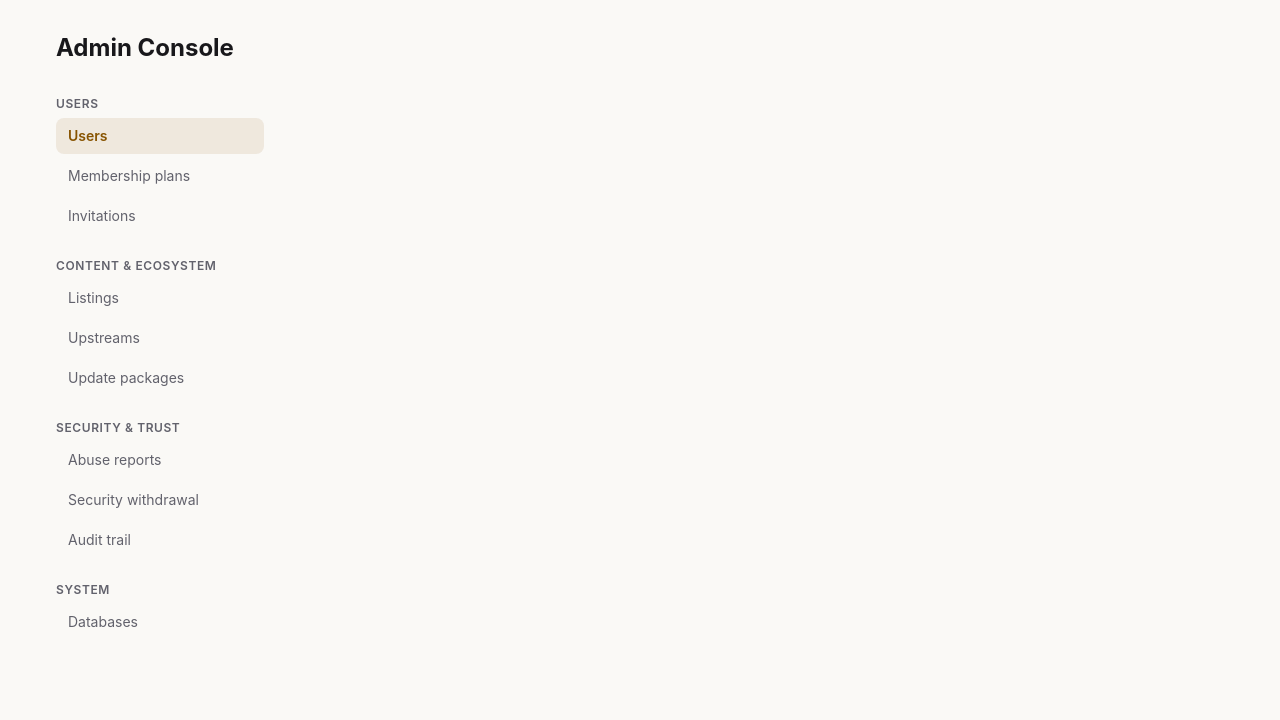
Test: AdminView membership console (管理 · 会员套餐) › lists plans and the recent order stream with buyer info
Click the tab "Membership plans". click: (160, 176)
box: [56,158,264,194]
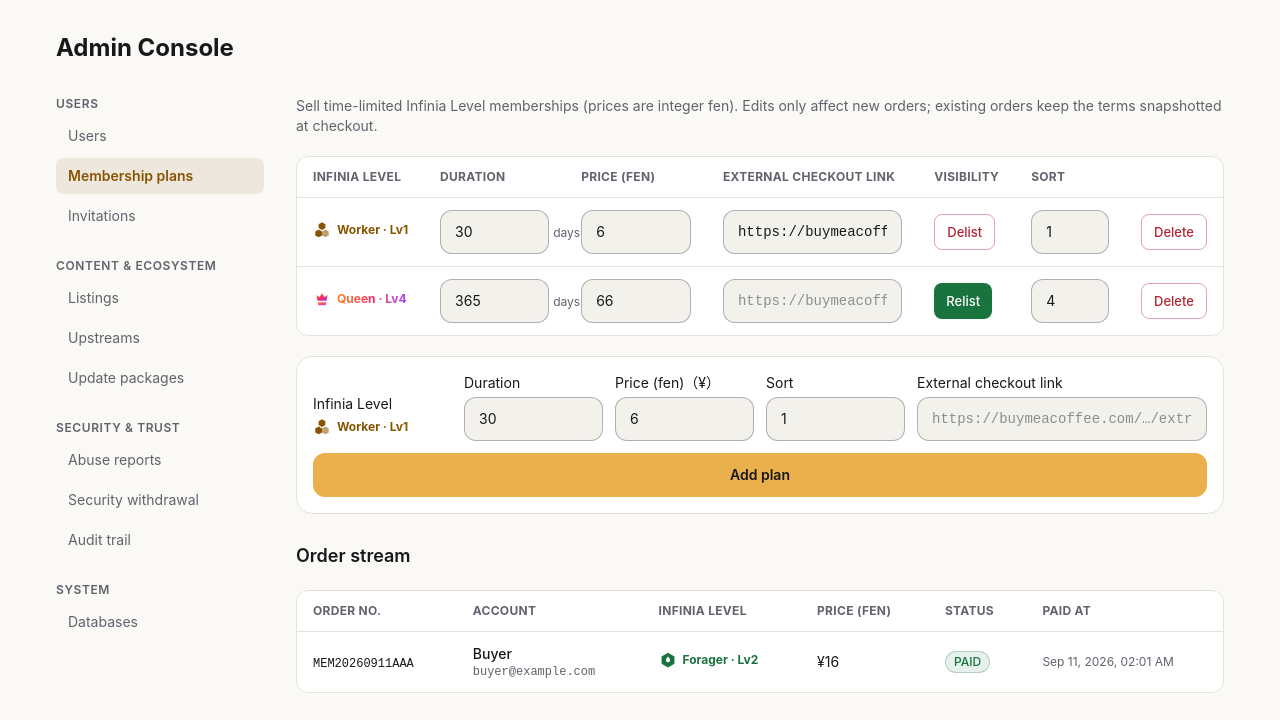
Check: the table with test id "membership-plans-table" shows "Lv1", box [297,157,1223,335]
Check: the table with test id "membership-plans-table" shows "Lv4", box [297,157,1223,335]
Check: the text "buyer@example.com" is shown, box [473,665,595,679]
